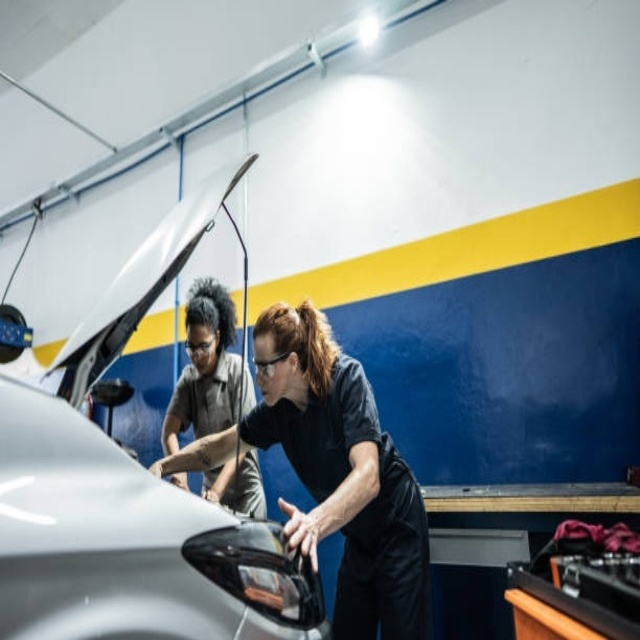Gafas: (252, 350, 293, 377), (184, 333, 217, 355)
Sin_guantes: (275, 493, 327, 576)
Sin_mascara: (257, 380, 274, 402)
